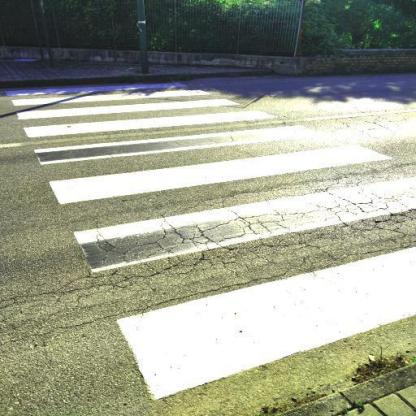crosswalk: (24, 122, 402, 207)
